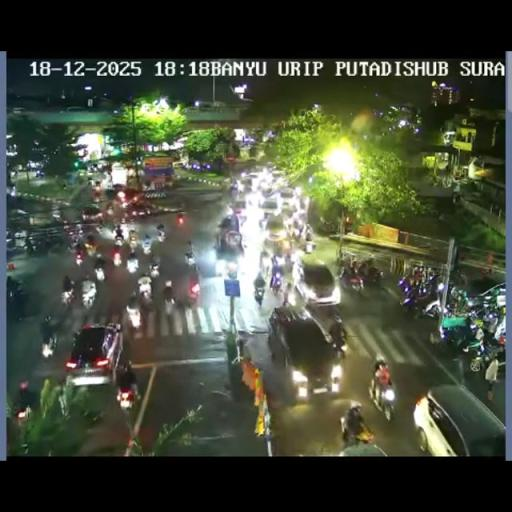Car: (267, 304, 344, 398), (416, 382, 502, 454), (64, 321, 122, 386), (298, 262, 339, 308), (469, 282, 505, 314), (106, 186, 148, 212), (217, 228, 244, 266), (258, 190, 282, 213), (81, 204, 102, 222), (277, 186, 295, 204), (238, 172, 256, 190), (270, 170, 286, 186), (260, 178, 274, 194), (111, 182, 124, 194)
Motorcycle: (92, 259, 197, 333), (78, 220, 163, 273), (398, 272, 440, 315), (462, 330, 504, 372), (369, 358, 394, 414), (430, 321, 468, 357), (115, 374, 138, 410), (15, 381, 37, 414), (14, 409, 32, 448), (40, 318, 58, 356), (80, 398, 104, 426), (448, 286, 470, 315), (125, 296, 142, 328), (340, 421, 360, 448), (363, 264, 384, 289), (14, 286, 29, 318), (288, 208, 306, 234), (186, 275, 201, 306), (330, 331, 346, 359), (57, 384, 70, 418), (46, 240, 69, 259), (492, 308, 506, 339), (81, 282, 97, 308), (450, 267, 468, 288), (270, 261, 283, 290), (60, 283, 75, 308), (162, 286, 176, 312), (252, 283, 266, 307), (138, 276, 152, 299), (349, 273, 364, 294), (259, 250, 271, 274), (214, 257, 228, 276), (234, 209, 248, 228), (184, 246, 196, 266), (94, 262, 106, 282), (126, 251, 138, 271), (281, 282, 291, 306), (67, 234, 80, 252), (282, 240, 293, 261), (218, 216, 234, 230), (75, 246, 86, 266), (149, 260, 160, 278), (349, 258, 360, 276), (85, 241, 97, 257), (226, 262, 238, 278), (128, 229, 138, 248), (6, 236, 16, 255), (25, 237, 35, 255), (112, 248, 122, 266), (92, 184, 102, 202), (258, 214, 269, 230), (304, 223, 314, 240), (142, 239, 152, 255), (105, 205, 115, 221), (114, 233, 124, 247), (156, 228, 166, 242), (305, 240, 315, 254), (118, 217, 128, 231), (230, 178, 238, 192), (481, 266, 492, 276), (9, 186, 16, 197), (12, 168, 18, 180), (86, 178, 93, 188)
